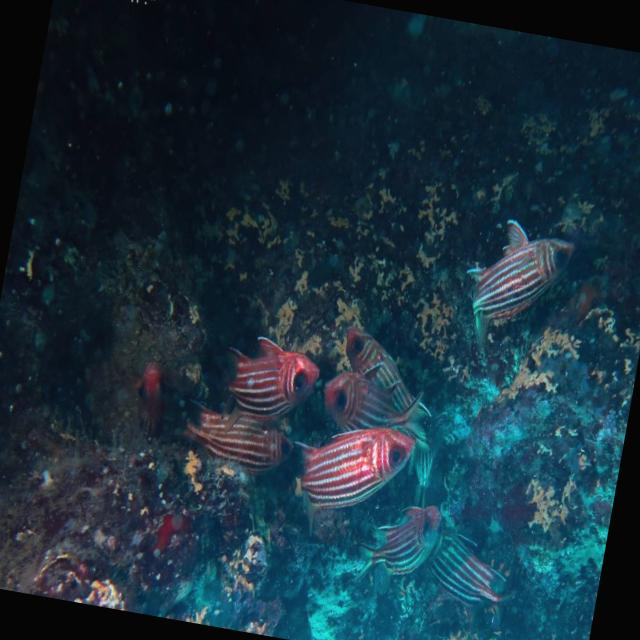Asker Baligi: (450, 209, 578, 370), (282, 413, 409, 529), (318, 356, 441, 450), (210, 331, 324, 427), (166, 404, 293, 482), (358, 482, 446, 592)
